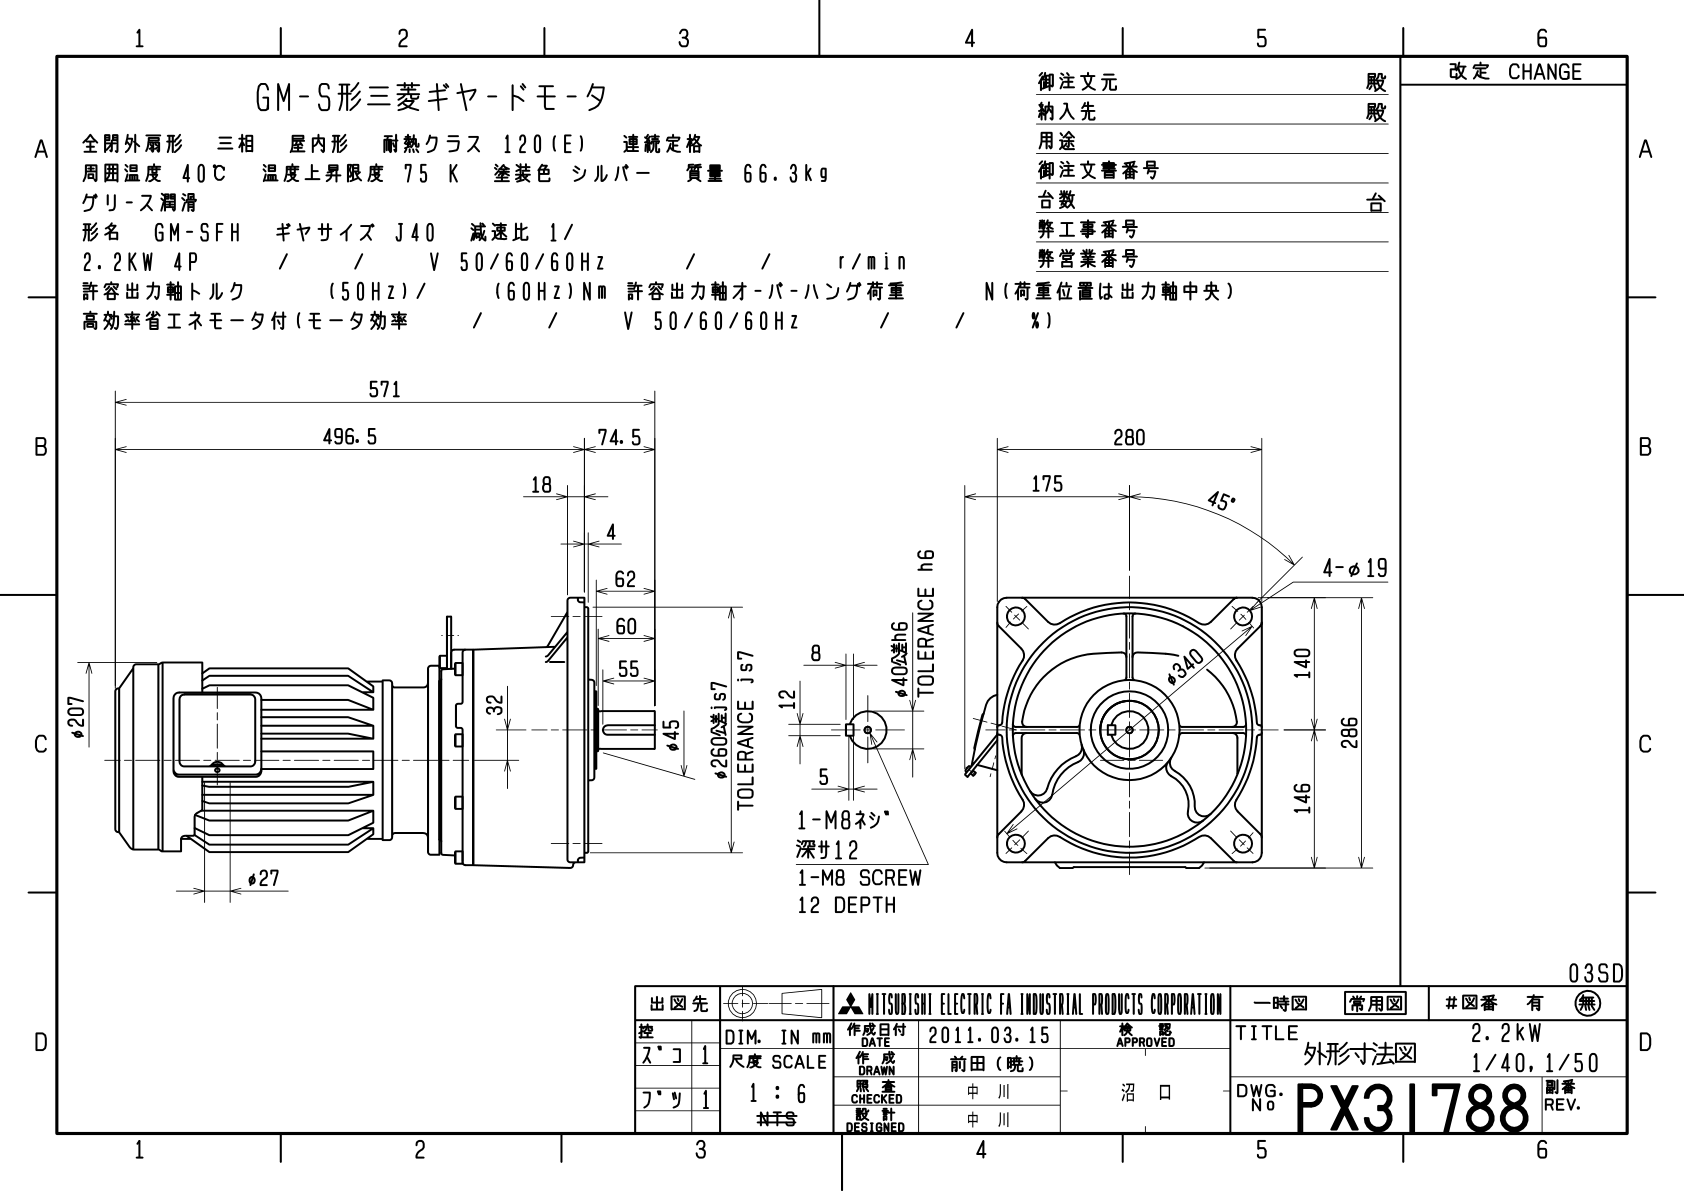GM_S_高効率屋内＿三相_フランジ: (58, 343, 1395, 951)
